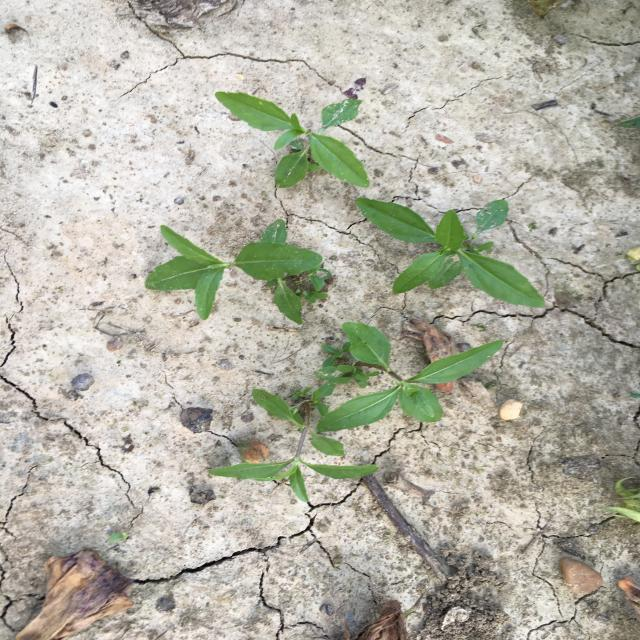Eclipta: (309, 319, 508, 434), (353, 196, 548, 310), (208, 381, 382, 504), (141, 216, 334, 326), (213, 89, 372, 190)
